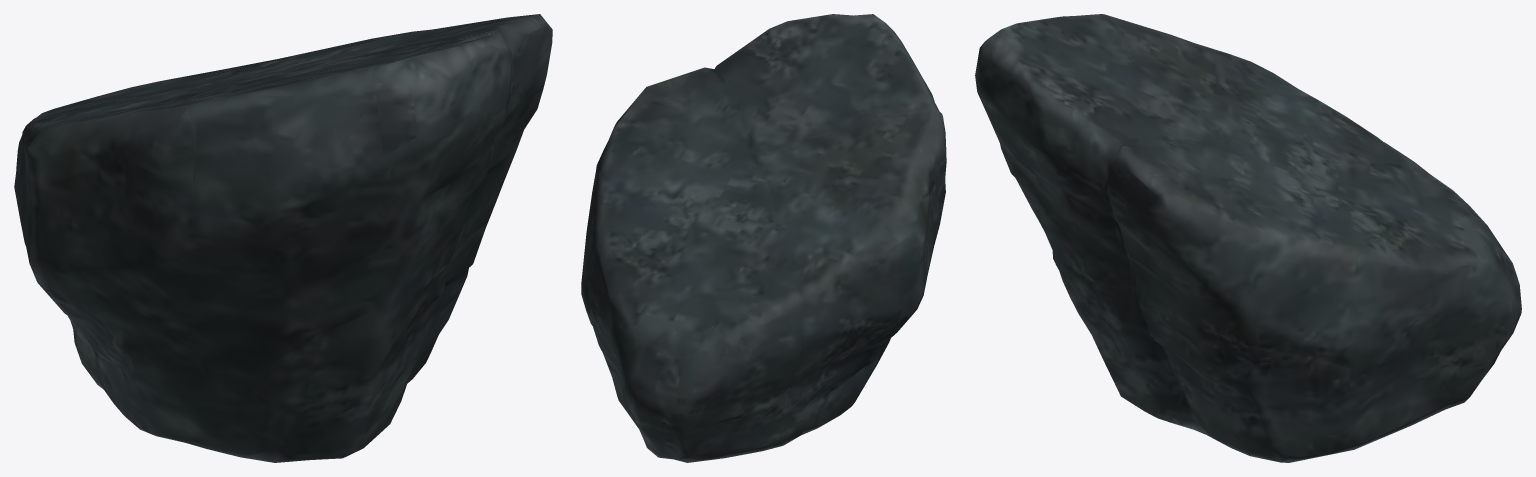
3 renders of one model, left to right at view 1: azimuth 30°, elevation 25°; view 2: azimuth 150°, elevation 25°; view 3: azimuth 270°, elevation 25°, orthographic. The views are drawn at different scales.
Parts seen in each view (by area): view 1: SM_US_VolcRock_01_v5_LOD0; view 2: SM_US_VolcRock_01_v5_LOD0; view 3: SM_US_VolcRock_01_v5_LOD0.
Boxes of the visible parts, x1=… form: SM_US_VolcRock_01_v5_LOD0: x1=14, y1=14, x2=552, y2=462; SM_US_VolcRock_01_v5_LOD0: x1=581, y1=14, x2=946, y2=462; SM_US_VolcRock_01_v5_LOD0: x1=975, y1=14, x2=1521, y2=462.
Bounding box in the file's own units: 2.19 × 1.96 × 2.67.
1 material, 1 textured.
